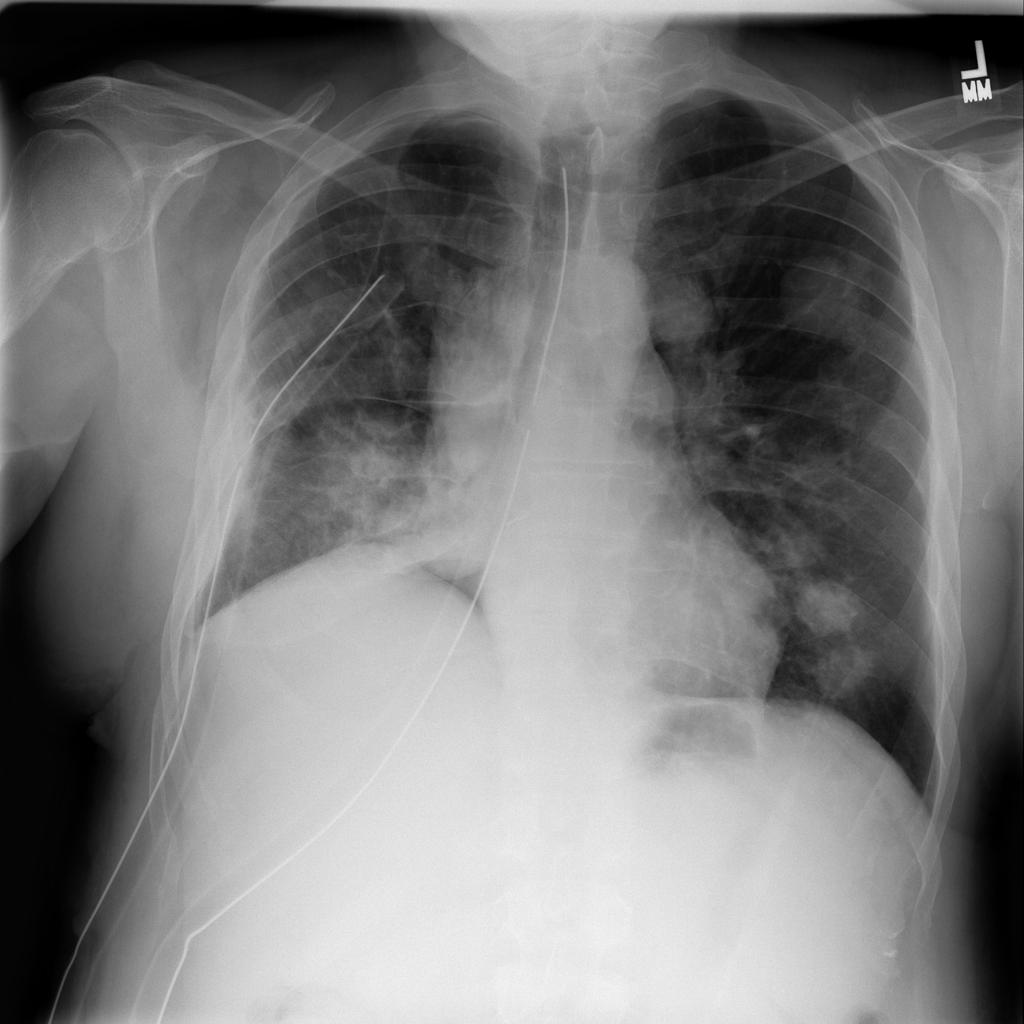nodule: (765, 235, 889, 361), (625, 259, 735, 362), (789, 571, 873, 647), (801, 637, 890, 705)
